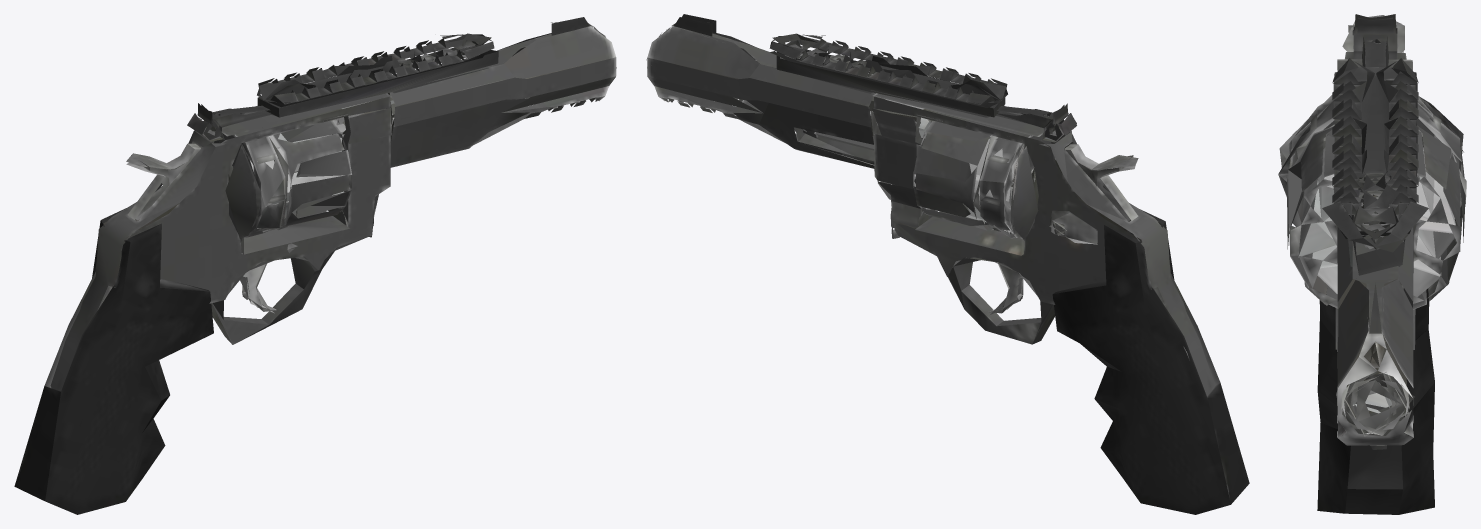
The model's file is revolver_low.glb.
3 views of the same model, side by side, from view 1: azimuth 30°, elevation 25°; view 2: azimuth 150°, elevation 25°; view 3: azimuth 270°, elevation 25° (orthographic). The views are drawn at different scales.
Parts seen in each view (by area): view 1: body, cylinder; view 2: body, cylinder; view 3: body, cylinder.
Boxes of the visible parts, left/top/right/bottom form: body: left=14, top=17, right=616, bottom=514; cylinder: left=232, top=120, right=351, bottom=238; body: left=646, top=14, right=1249, bottom=514; cylinder: left=913, top=121, right=1032, bottom=238; body: left=1279, top=14, right=1463, bottom=514; cylinder: left=1278, top=98, right=1466, bottom=309.
Size of the model in its own units: 0.2898 by 0.1751 by 0.0509.
1 material, 1 textured.
